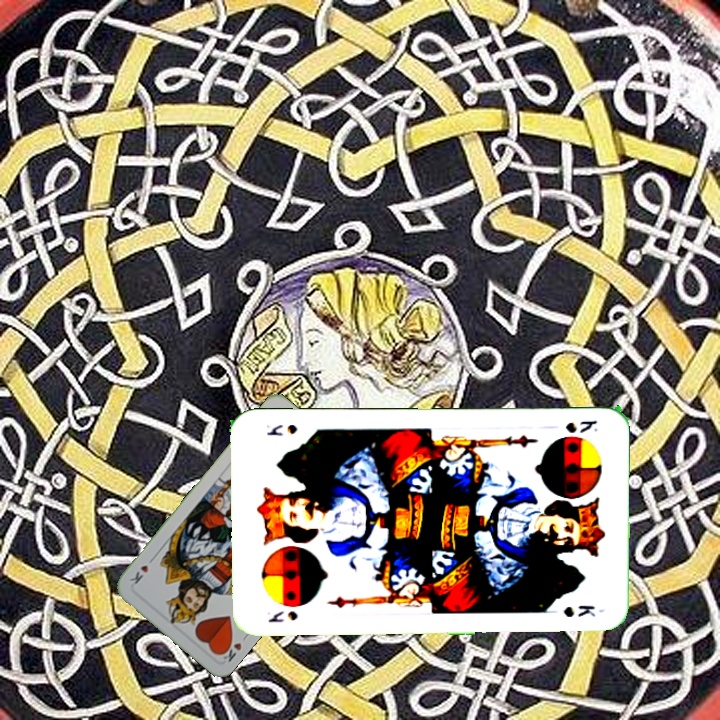HK: (216, 630, 251, 664)
SK: (562, 416, 600, 435), (263, 607, 300, 625)
